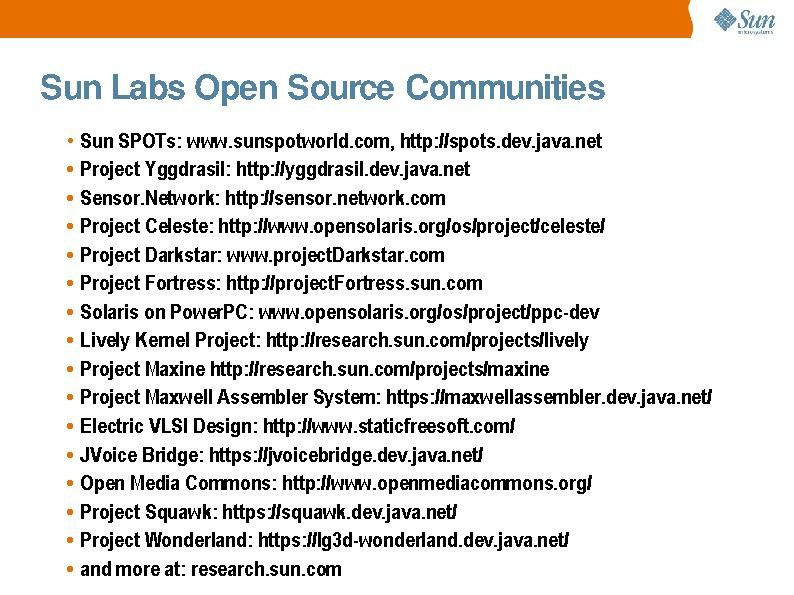paragraph: (59, 126, 761, 592)
title: (36, 61, 615, 122)
